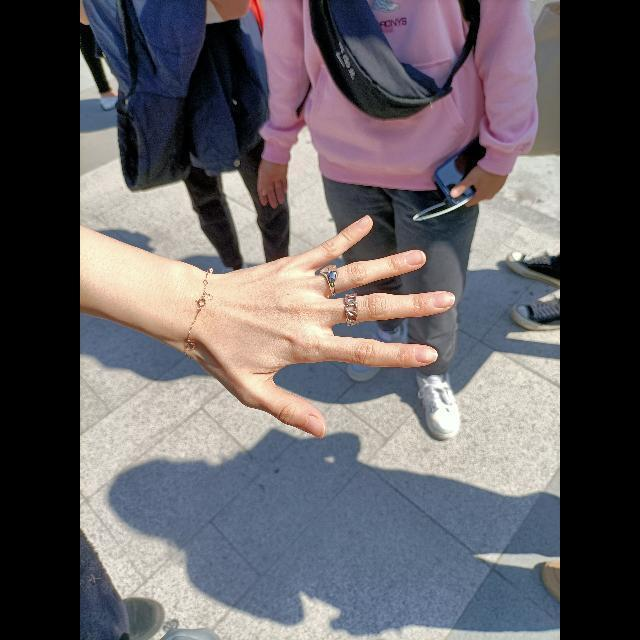bare_hand: (126, 216, 454, 445)
